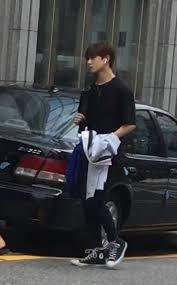earphone: (102, 58, 109, 65)
